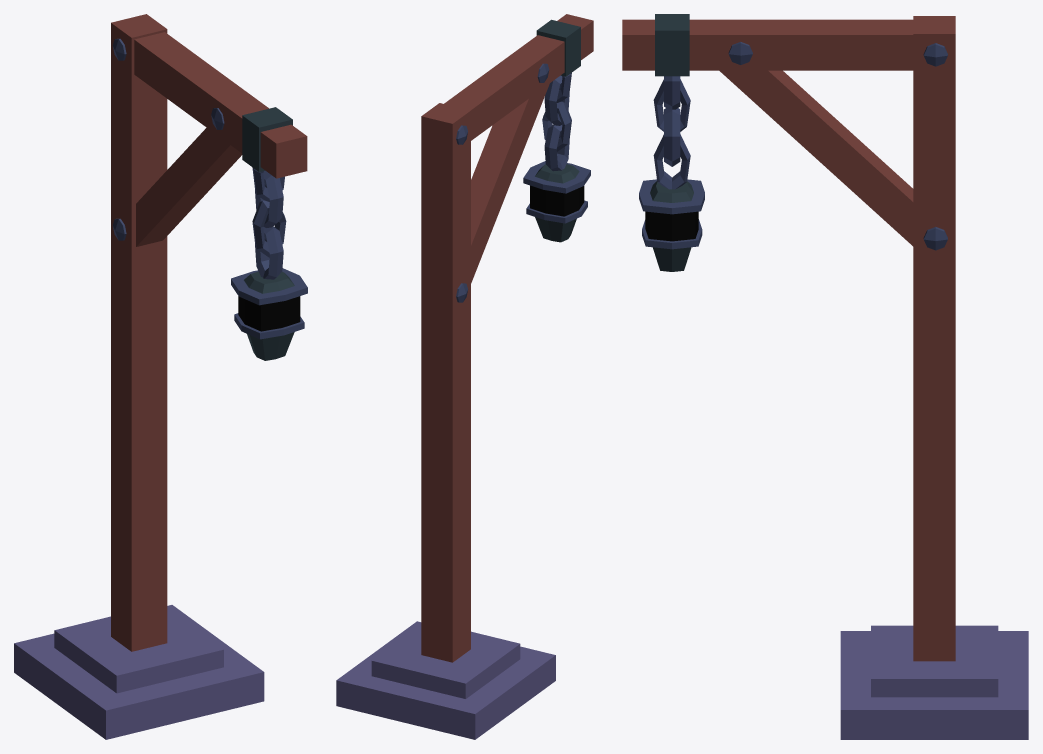
Rendered from Candlelight_01.fbx.
The picture shows the model from 3 angles, left to right: view 1: azimuth 30°, elevation 25°; view 2: azimuth 150°, elevation 25°; view 3: azimuth 270°, elevation 25°; orthographic projection. The views are drawn at different scales.
Parts seen in each view (by area): view 1: CandleLight 1; view 2: CandleLight 1; view 3: CandleLight 1.
Boxes of the visible parts, <box> form: CandleLight 1: <box>14,14,307,739</box>; CandleLight 1: <box>336,14,593,739</box>; CandleLight 1: <box>622,14,1028,739</box>.
Size of the model in its own units: 86.1 by 345 by 187.
